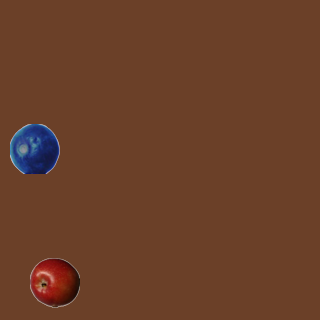Apple Braeburn: (29, 257, 79, 307)
Huckleberry: (9, 123, 59, 173)
